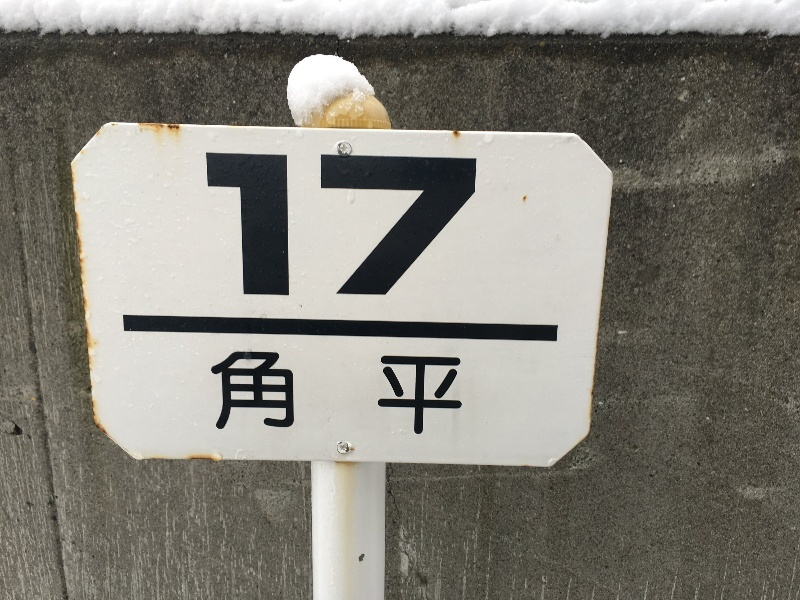text: (209, 149, 224, 301), (225, 149, 240, 301), (241, 149, 256, 301), (257, 149, 272, 301), (273, 149, 288, 301), (289, 149, 304, 301), (305, 149, 320, 301), (321, 149, 336, 301), (337, 149, 352, 301), (353, 149, 368, 301), (369, 149, 384, 301), (385, 149, 400, 301), (401, 149, 416, 301), (417, 149, 432, 301), (433, 149, 448, 301), (449, 149, 464, 301), (465, 149, 480, 301), (481, 149, 496, 301), (497, 149, 511, 301), (195, 149, 208, 301), (449, 354, 465, 440), (385, 354, 400, 440), (401, 354, 416, 440), (417, 354, 432, 440), (433, 354, 448, 440), (209, 348, 224, 433), (225, 348, 240, 433), (241, 348, 256, 433), (257, 348, 272, 433), (273, 348, 288, 433), (289, 348, 299, 433), (381, 354, 384, 440)
